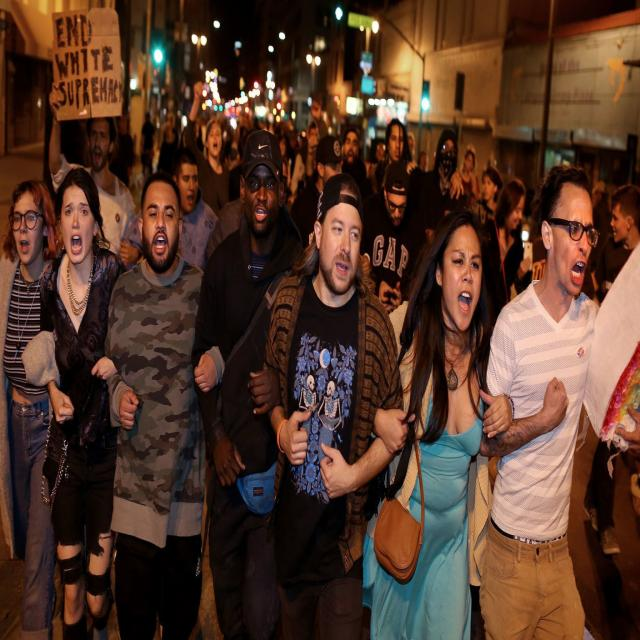body: (256, 173, 402, 639), (362, 206, 496, 640), (480, 161, 600, 640), (192, 125, 300, 639), (204, 138, 302, 640), (106, 176, 211, 640), (38, 169, 124, 639), (0, 178, 58, 639), (48, 81, 144, 269), (132, 145, 221, 274), (359, 159, 424, 317), (368, 118, 464, 201), (289, 133, 353, 250), (592, 182, 640, 310), (185, 81, 231, 213), (418, 128, 466, 249), (488, 175, 532, 302), (231, 92, 332, 126), (455, 146, 480, 207), (341, 124, 367, 180), (228, 134, 249, 202), (477, 162, 503, 216), (303, 118, 321, 186), (139, 108, 156, 177), (276, 134, 292, 178), (361, 111, 379, 149), (162, 109, 178, 142)
